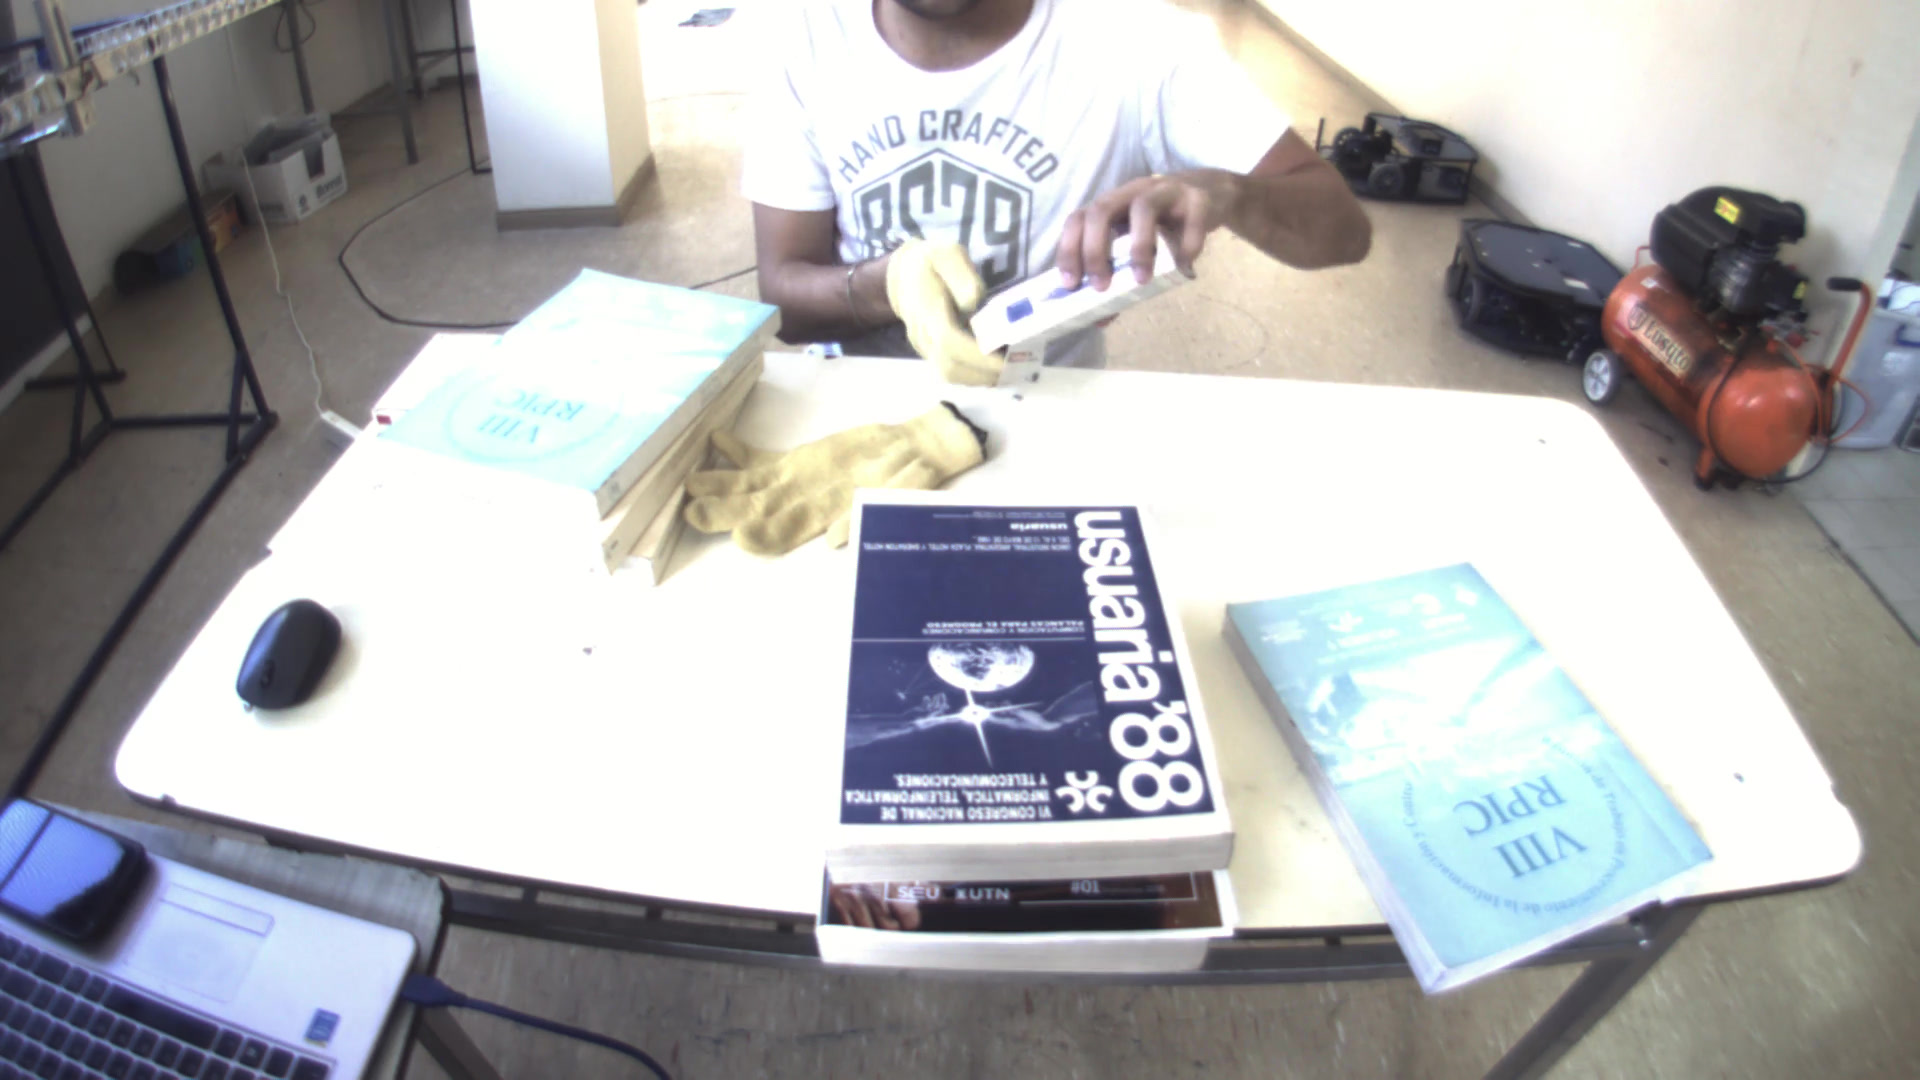hand: (1036, 149, 1247, 285), (882, 228, 1017, 394)
